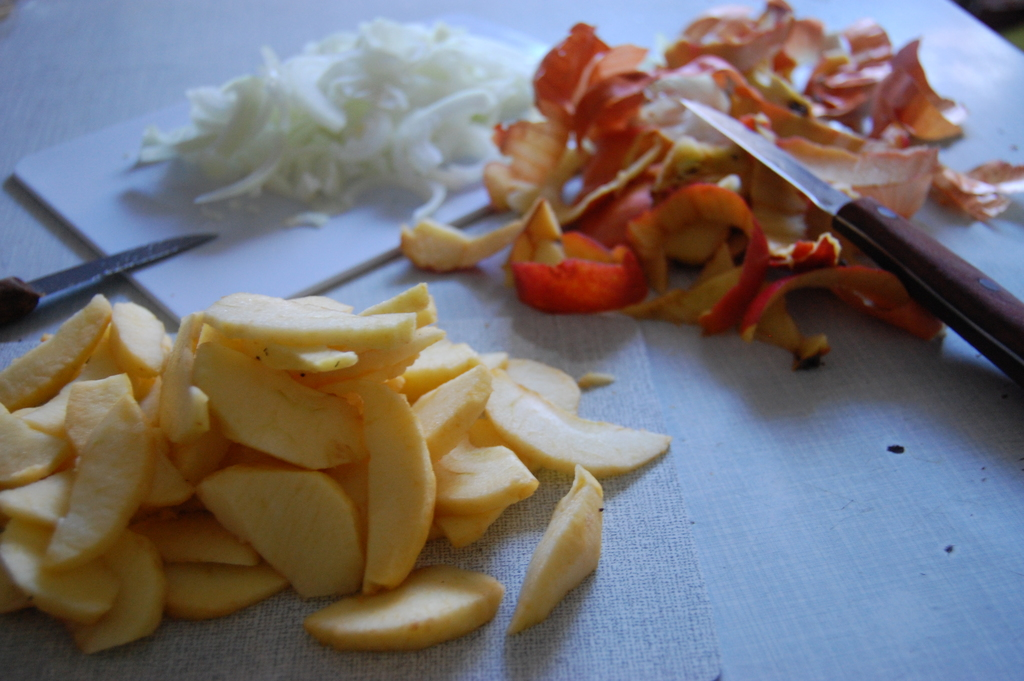French fries: (27, 262, 641, 647)
